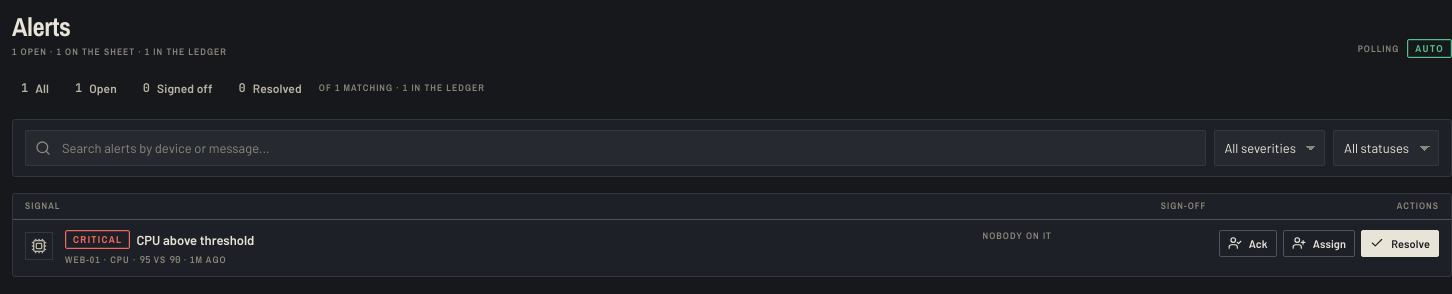
Scenario: Alerts page › acknowledges an alert and shows the acknowledged badge
// The ack button's label is the short "Ack" (title is the long form).
Click the button "Ack". click: x=1248, y=243
box: top-left (1218, 230), bottom-right (1277, 257)
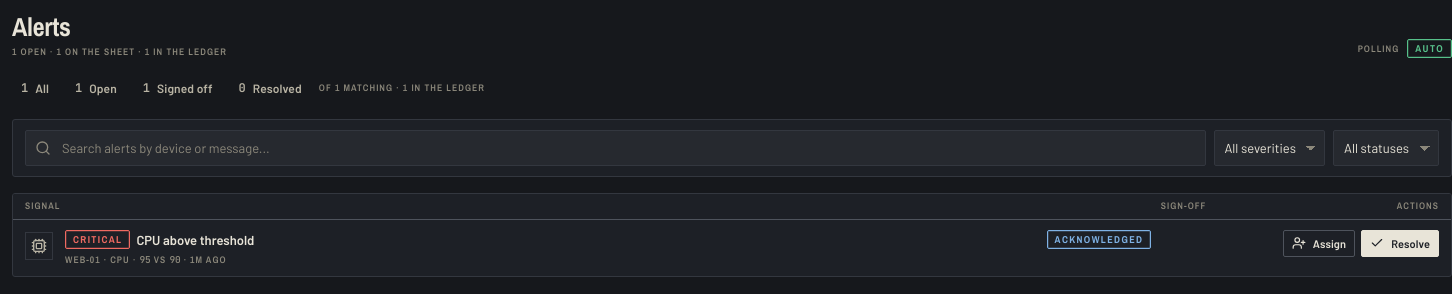
Expected: the text "1 open · 1 on the sheet · 1 in the ledger" is shown, top-left (12, 46), bottom-right (227, 58)
Expected: the text "Acknowledged" is shown, top-left (1047, 230), bottom-right (1151, 249)
